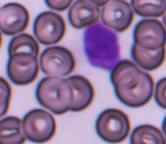L: (77, 20, 123, 72)
